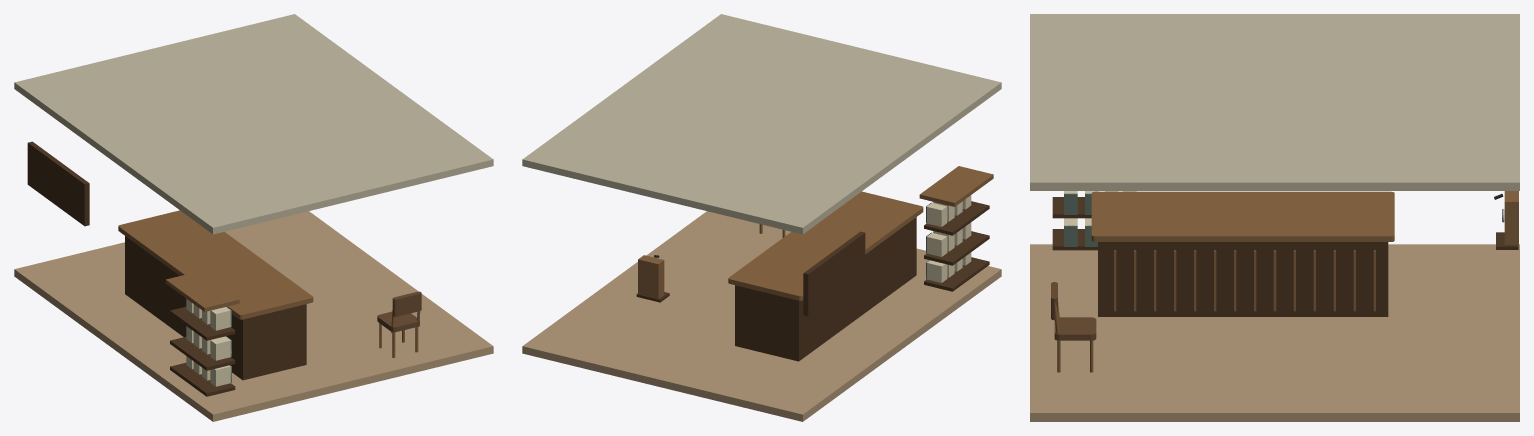
The model's file is SM_Town_Motel_Office_LOD1.fbx.
3 views of the same model, side by side, from view 1: azimuth 30°, elevation 25°; view 2: azimuth 150°, elevation 25°; view 3: azimuth 270°, elevation 25° (orthographic). The views are drawn at different scales.
Visible parts, largest first — view 1: SM_Town_Motel_Office_LOD1; view 2: SM_Town_Motel_Office_LOD1; view 3: SM_Town_Motel_Office_LOD1.
Part boxes in pixels (box(x1,y1,x2,y2)): SM_Town_Motel_Office_LOD1: box(14, 14, 493, 421); SM_Town_Motel_Office_LOD1: box(522, 14, 1001, 421); SM_Town_Motel_Office_LOD1: box(1030, 14, 1519, 421).
Size of the model in its own units: 4.41 by 5.4 by 2.91.
